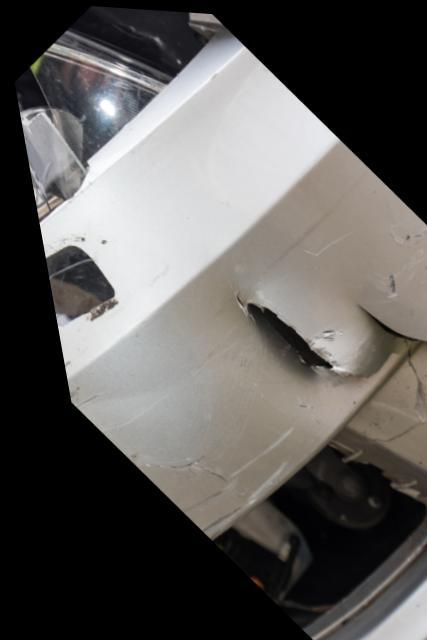crack: (221, 288, 427, 438)
lamp broken: (11, 5, 221, 219)
no part: (193, 424, 408, 623)
scratch: (52, 368, 302, 539), (365, 215, 427, 318)
